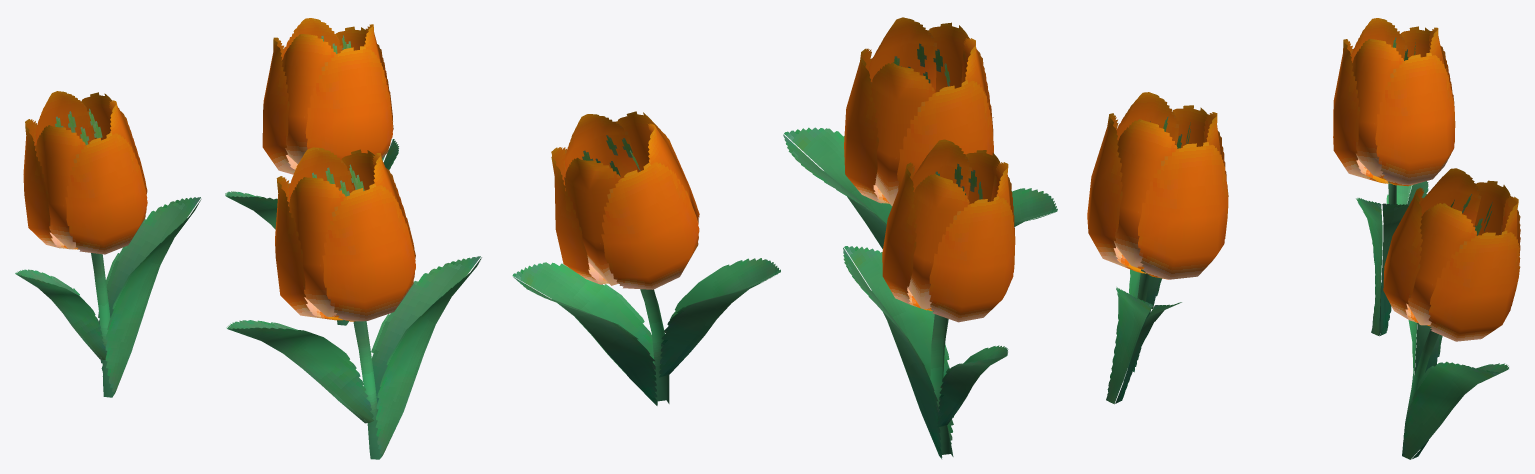
The model's file is orange-tulips.glb.
The picture shows the model from 3 angles, left to right: view 1: azimuth 30°, elevation 25°; view 2: azimuth 150°, elevation 25°; view 3: azimuth 270°, elevation 25°; orthographic projection. The views are drawn at different scales.
Bounding box in the file's own units: 9.86 × 6.64 × 8.68.
Materials: 2 (2 with a texture image).
